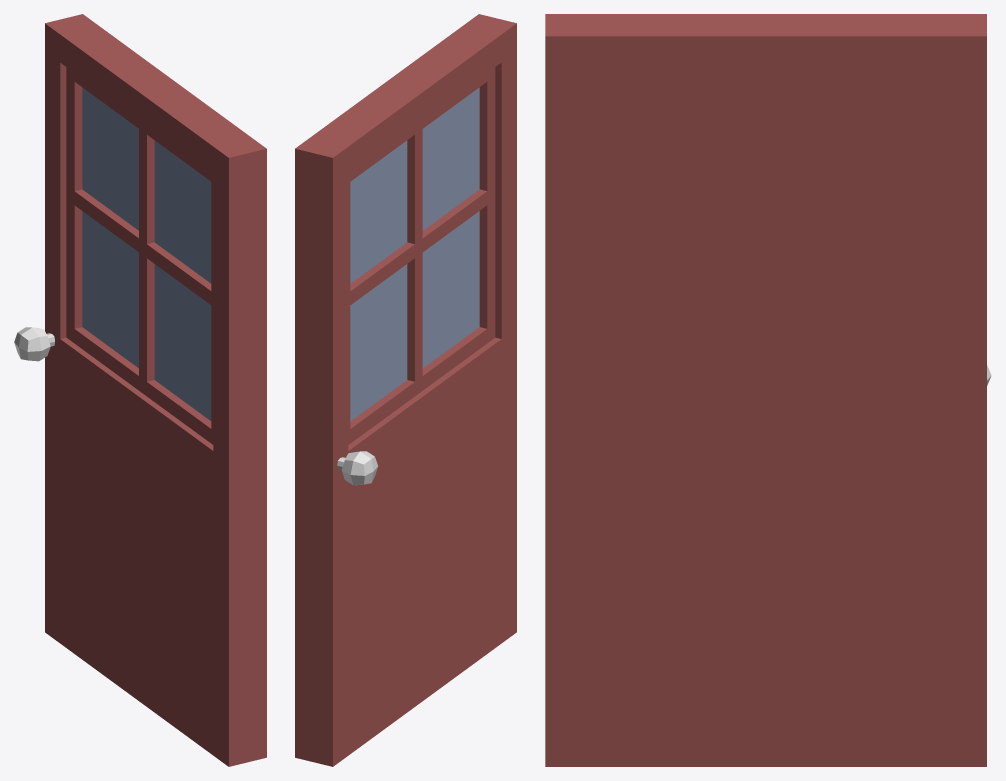
File: Door.fbx
3 renders of one model, left to right at view 1: azimuth 30°, elevation 25°; view 2: azimuth 150°, elevation 25°; view 3: azimuth 270°, elevation 25°, orthographic. The views are drawn at different scales.
Visible parts, largest first — view 1: Cube.572, Cube.573; view 2: Cube.572, Cube.573; view 3: Cube.572.
Part boxes in pixels (x1,y1,x2,y2): Cube.572: (45,14,266,766); Cube.573: (14,327,54,361); Cube.572: (295,14,516,766); Cube.573: (337,451,377,485); Cube.572: (545,14,986,766).
Bounding box in the file's own units: 30.27 × 247 × 137.
